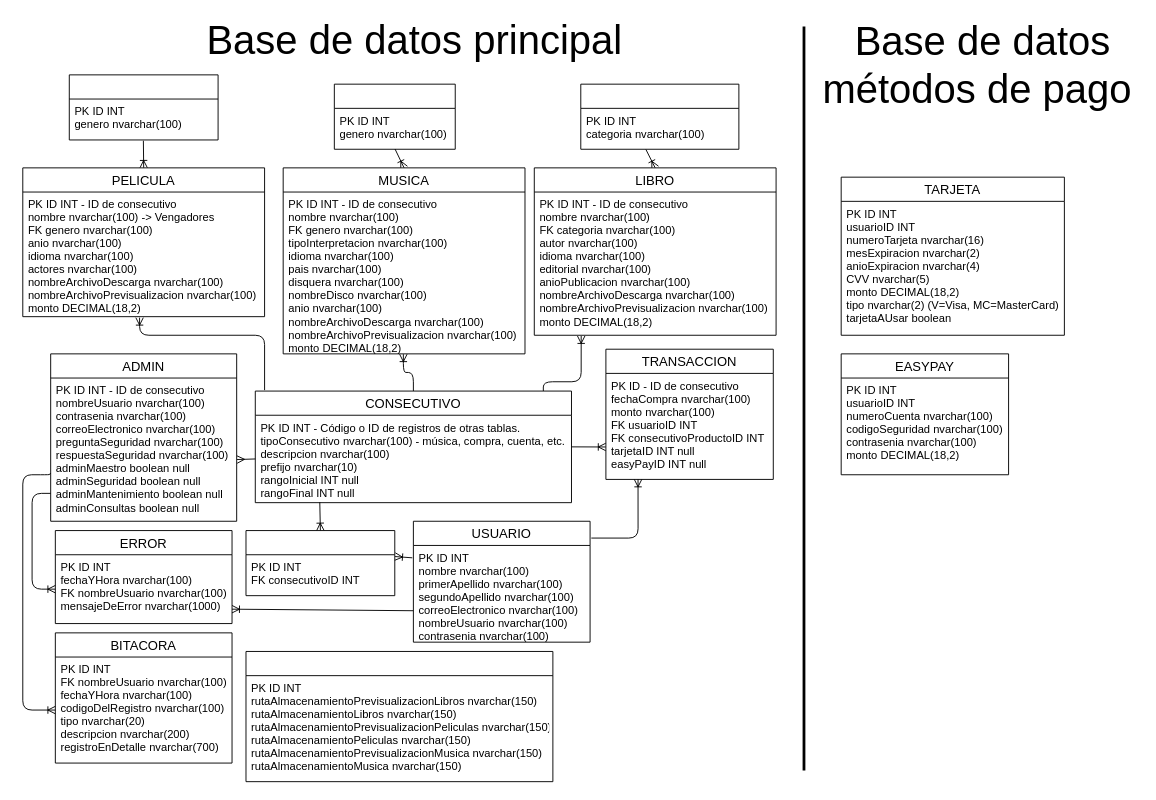
Some shapes in this 1156 by 800 pixel diagram are drawn without their labels. The box of each missing label's shape, as (x1, y1, x2, y2) in pixels:
CATEGORIAS_LIBROS: (580, 83, 739, 149)
DESCARGAS: (245, 530, 395, 596)
GENEROS_MUSICA: (333, 83, 455, 149)
GENEROS_PELICULAS: (68, 74, 218, 140)
PARAMETROS: (245, 651, 553, 782)
